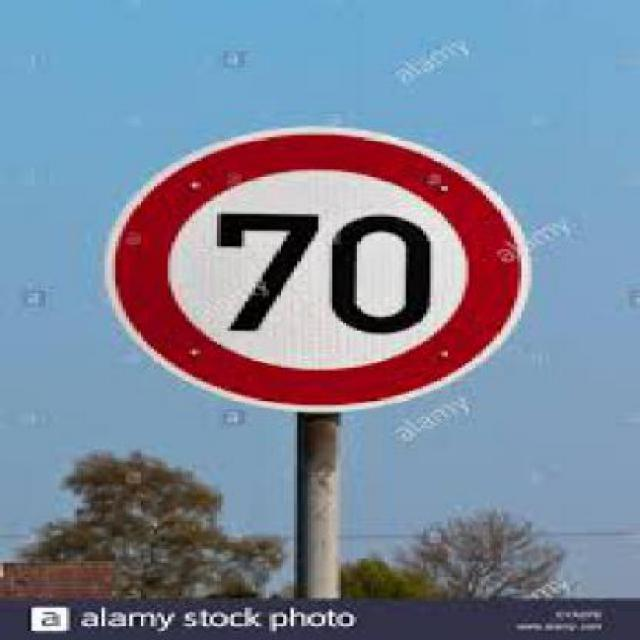speed limit 70: (105, 126, 534, 415)
